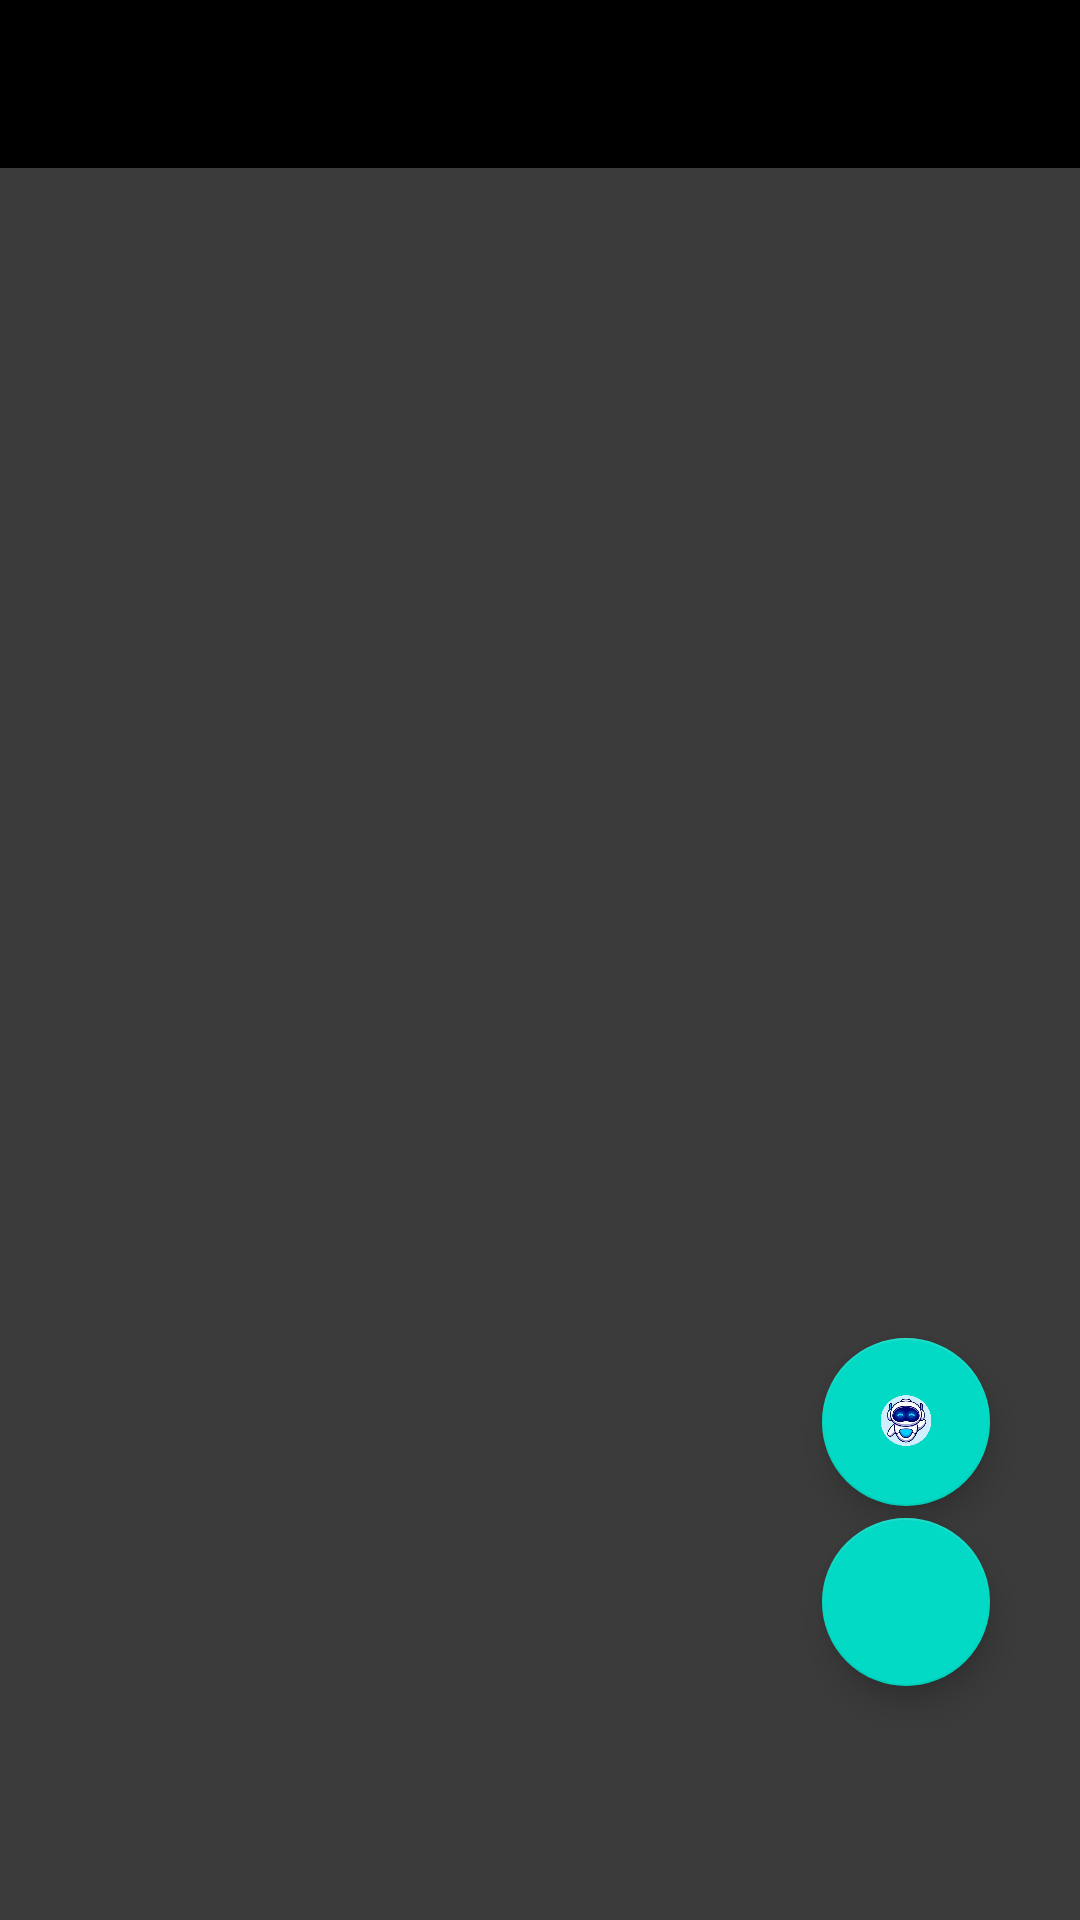

Named icons in this screenshot (1080w x 1920h) and their bounding boxes, (x1, y1, x2, y2):
robot: (822, 1338, 990, 1506)
